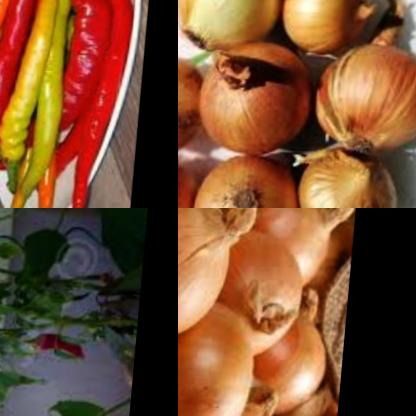hot pepper: (0, 0, 138, 208), (20, 323, 92, 366)
onion: (185, 37, 324, 168), (303, 22, 416, 164), (207, 219, 314, 352), (178, 284, 268, 416), (285, 124, 416, 208), (247, 303, 339, 416), (178, 208, 251, 342), (226, 208, 341, 279), (187, 139, 304, 208), (266, 0, 380, 56), (178, 0, 288, 57), (178, 47, 210, 163)
